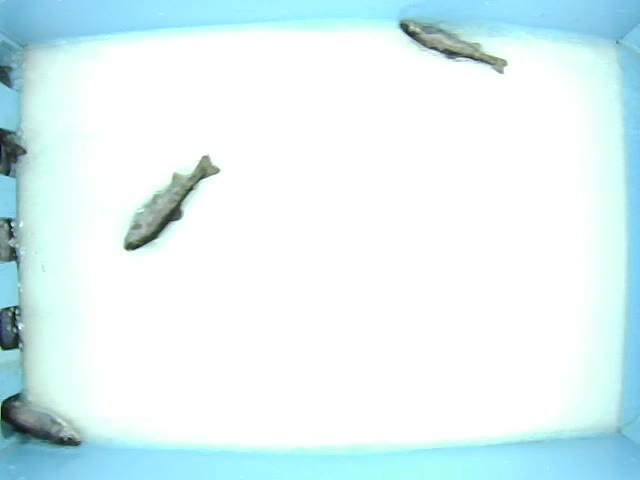fish: (121, 159, 222, 260), (386, 16, 526, 78), (6, 399, 83, 453)
